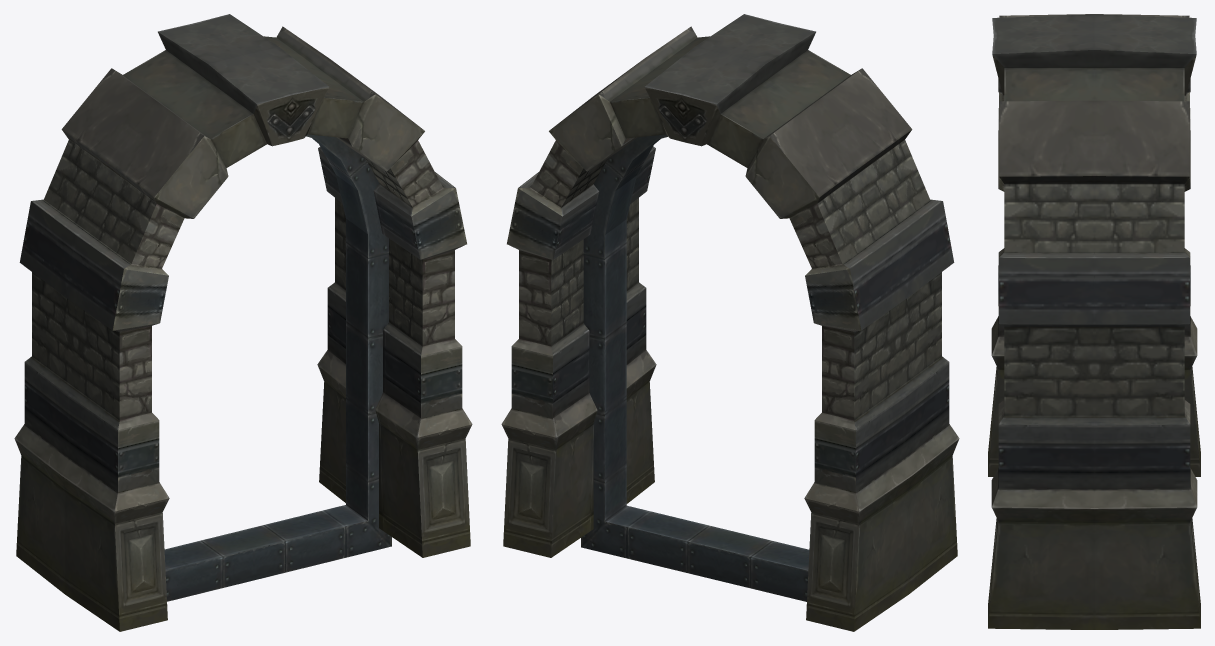
The model's file is BD_Prison_Door_02.FBX.
3 views of the same model, side by side, from view 1: azimuth 30°, elevation 25°; view 2: azimuth 150°, elevation 25°; view 3: azimuth 270°, elevation 25° (orthographic). The views are drawn at different scales.
Parts seen in each view (by area): view 1: BD_Prison_Door_02; view 2: BD_Prison_Door_02; view 3: BD_Prison_Door_02.
Part boxes in pixels (x1=…): BD_Prison_Door_02: x1=14, y1=14, x2=472, y2=631; BD_Prison_Door_02: x1=501, y1=14, x2=959, y2=631; BD_Prison_Door_02: x1=988, y1=14, x2=1200, y2=629.
Size of the model in its own units: 416 by 566 by 206.
